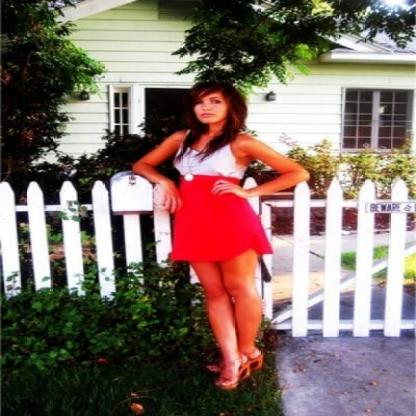shirt: (174, 141, 256, 195)
shoe: (221, 358, 244, 388)
skirt: (166, 177, 272, 267)
